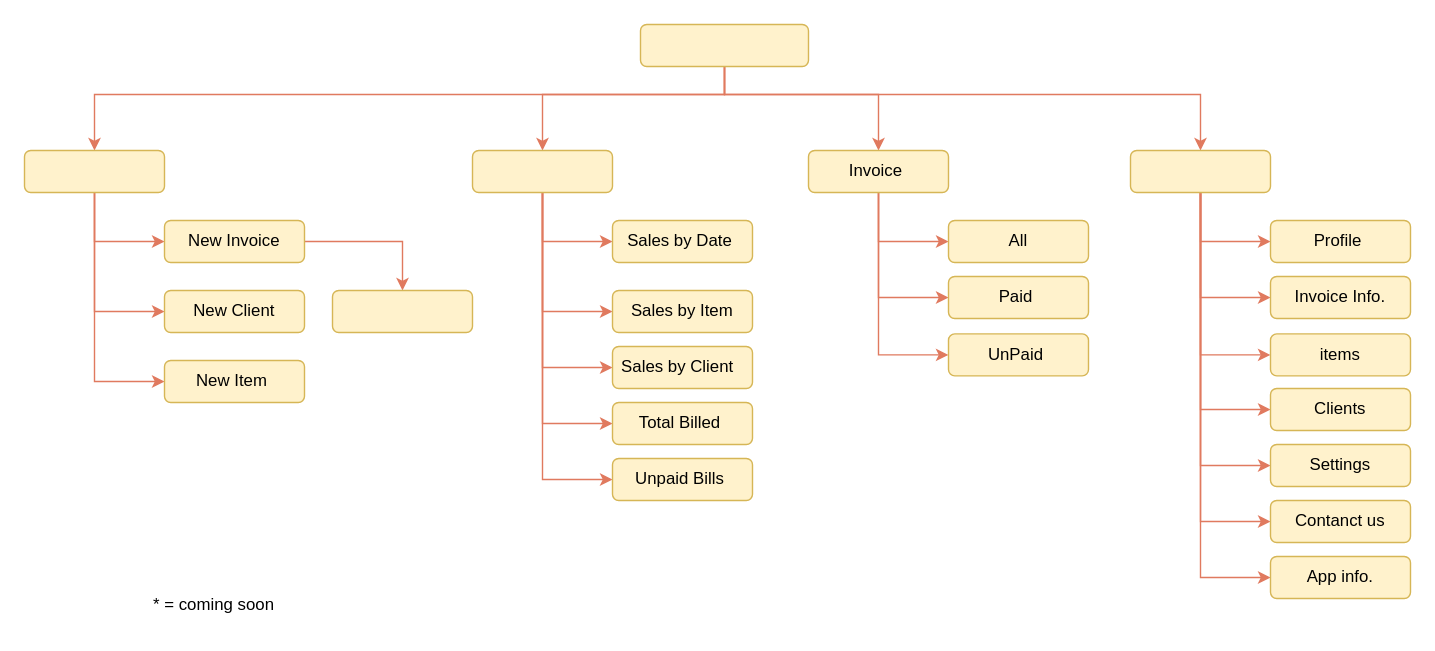
This 1435x651 diagram has some shape labels left out. The shapes that lost their labels are listed below. From the top down, each one's centre as x and y in pixels, then its label:
At pixel 723 44: "Dashboard".
At pixel 93 170: "Add".
At pixel 541 170: "Report *".
At pixel 1199 170: "More *".
At pixel 401 310: "Add Photo *".
